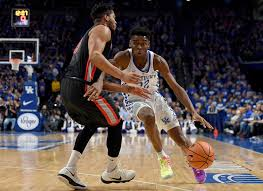basketball: (183, 140, 217, 171)
basketball player: (52, 2, 127, 190), (119, 26, 180, 177)
